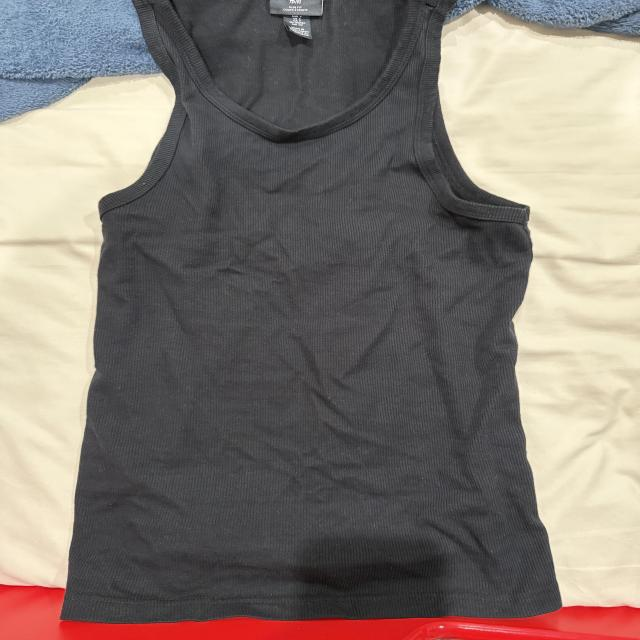back_tag: (270, 0, 330, 39)
